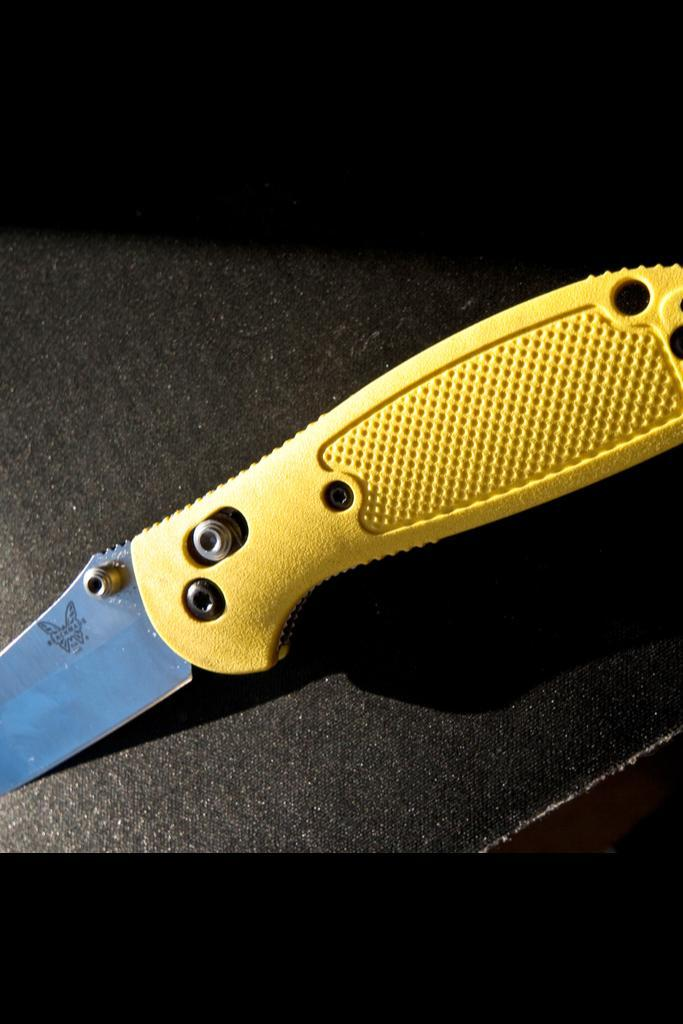melee: (0, 263, 683, 815)
